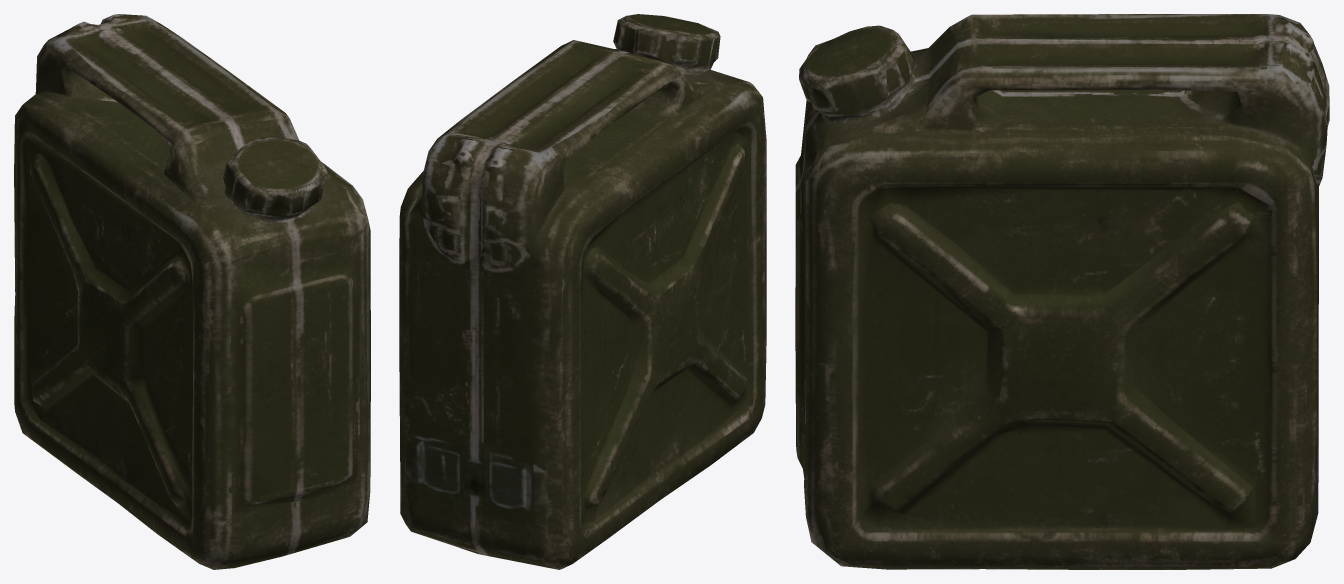
File: gas_can.glb
3 renders of one model, left to right at view 1: azimuth 30°, elevation 25°; view 2: azimuth 150°, elevation 25°; view 3: azimuth 270°, elevation 25°, orthographic. The views are drawn at different scales.
Visible parts, largest first — view 1: GasCan; view 2: GasCan; view 3: GasCan.
Boxes of the visible parts, left/top/right/bottom form: GasCan: left=14, top=14, right=370, bottom=569; GasCan: left=399, top=14, right=766, bottom=569; GasCan: left=795, top=14, right=1329, bottom=569.
Size of the model in its own units: 0.3976 by 0.8458 by 0.8235.
Materials: 1 (1 with a texture image).
